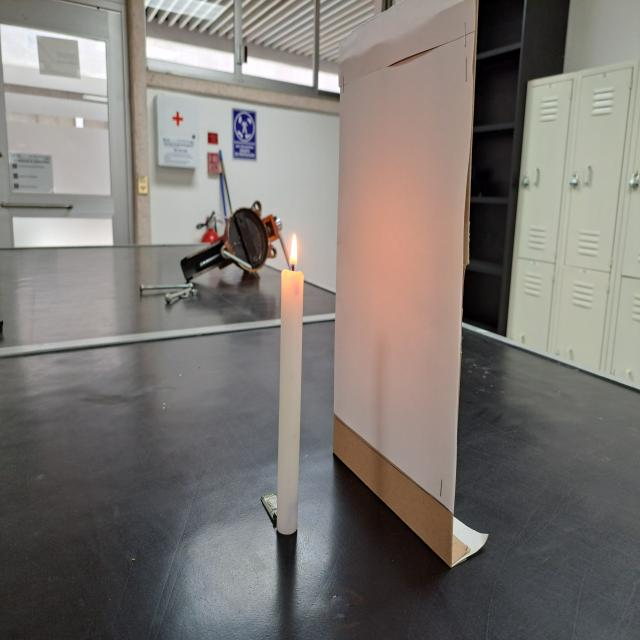candle: (272, 223, 306, 542)
wall: (333, 0, 470, 566)
